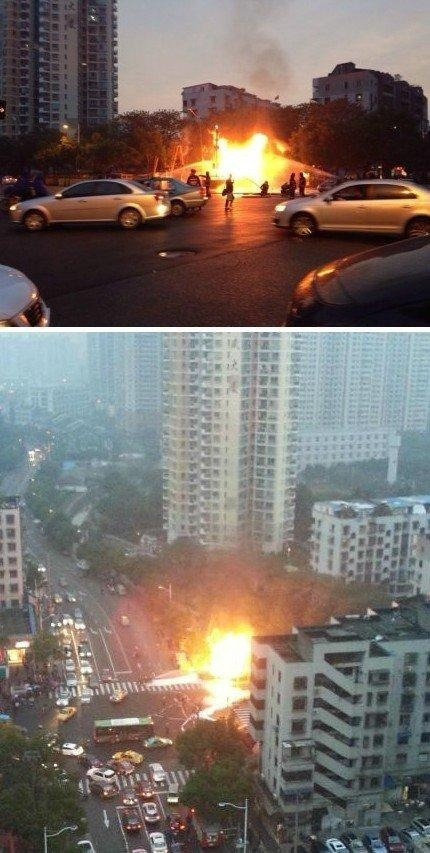fire: (175, 620, 258, 714), (205, 126, 279, 192)
